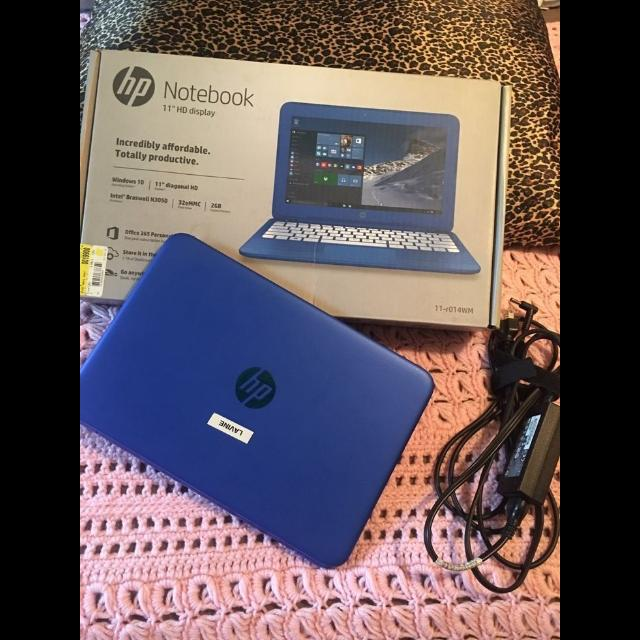laptop: (82, 252, 426, 558)
